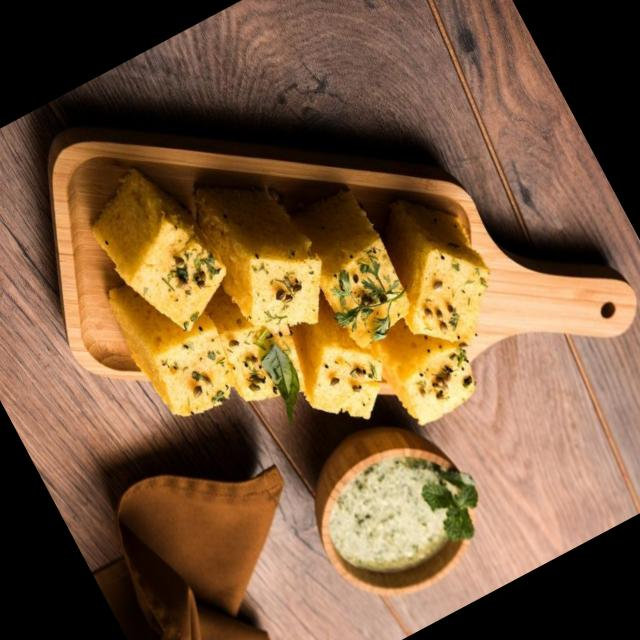dhokla: (64, 77, 533, 526)
